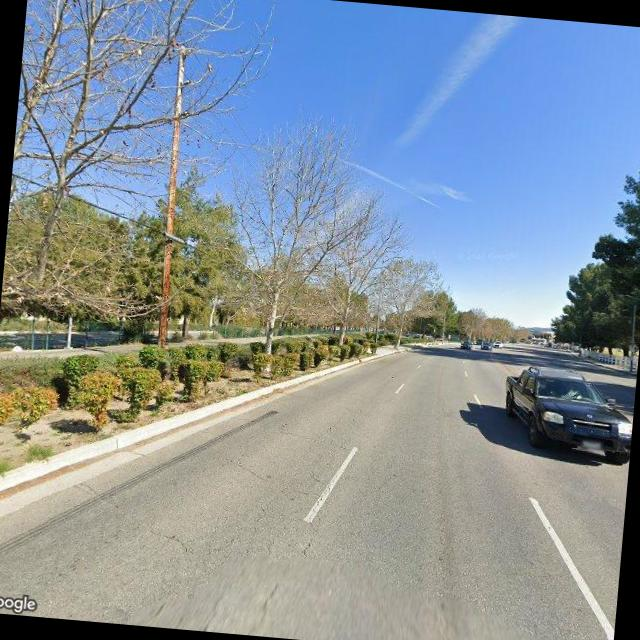crack: (230, 456, 340, 561)
